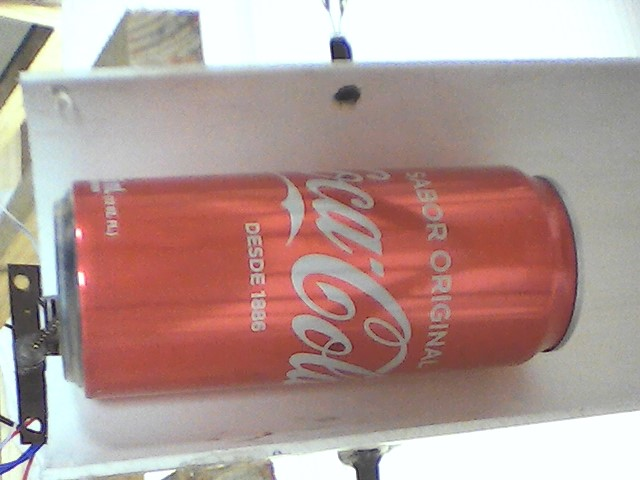lata: (48, 161, 597, 400)
